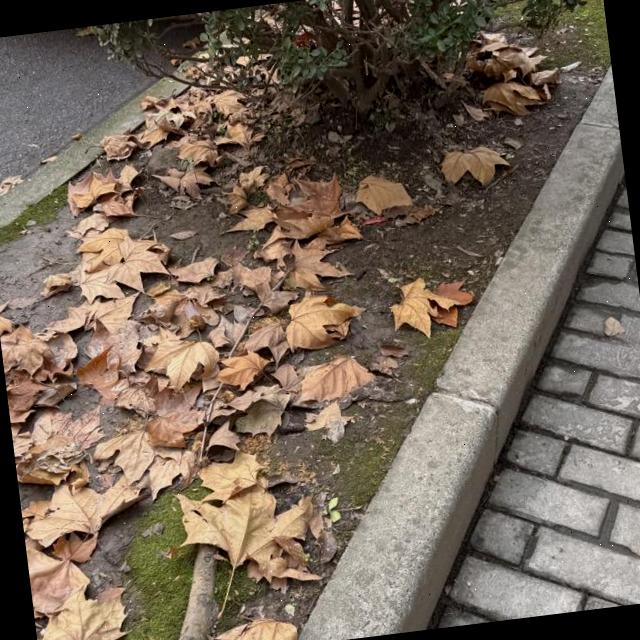curb: (299, 69, 623, 640), (0, 77, 185, 230)
